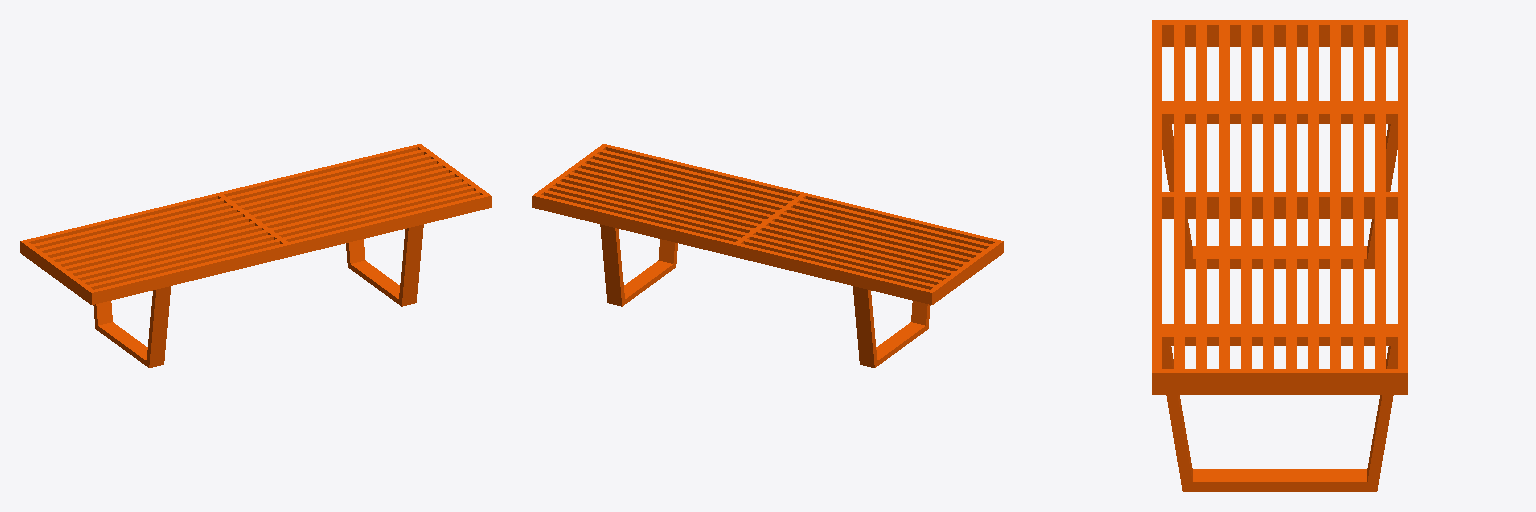
robot.urdf — Bench_17a7a1a4761e9aa1d4bf2d5f775ffe5e:
<?xml version="1.0" ?>
<robot name="Bench_17a7a1a4761e9aa1d4bf2d5f775ffe5e">
   <material name="obj_color">
      <color rgba="1.0 0.423529411765 0.0392156862745 1.0"/>
   </material>
   <link name="top">
      <inertial>
         <origin rpy="0.0006435095610023216 0.004082014267312145 0.004213607836641126" xyz="0.0004424999999999997 0.0007575094550358297 -0.01843548246483377"/>
         <mass value="0.9045251381755006"/>
         <inertia ixx="0.0006435095610023216" ixy="-7.123472640153536e-20" ixz="3.891057601449442e-20" iyy="0.004082014269954639" iyz="-1.864766021860635e-08" izz="0.004213607833998633"/>
      </inertial>
      <visual>
         <origin rpy="0 0 0" xyz="0 0 0"/>
         <geometry>
            <mesh filename="top_watertight_tiny.stl" scale="1 1 1"/>
         </geometry>
         <material name="obj_color"/>
      </visual>
      <collision>
         <origin rpy="0 0 0" xyz="0 0 0"/>
         <geometry>
            <mesh filename="top_watertight_tiny.obj" scale="1 1 1"/>
         </geometry>
      </collision>
   </link>
   <link name="bottom">
      <inertial>
         <origin rpy="1.633333333199431e-08 1.633333333199431e-08 1.633333333362855e-08" xyz="0.3464080000000008 0.3464080000000008 0.3464080000000008"/>
         <mass value="0.0009800000000000017"/>
         <inertia ixx="1.633333333253906e-08" ixy="5.447480642029219e-19" ixz="5.447480642029219e-19" iyy="1.633333333253906e-08" iyz="5.447480642029219e-19" izz="1.633333333253906e-08"/>
      </inertial>
      <visual>
         <origin rpy="0 0 0" xyz="0 0 0"/>
         <geometry>
            <mesh filename="bottom_watertight_tiny.stl" scale="1 1 1"/>
         </geometry>
         <material name="obj_color"/>
      </visual>
   </link>
   <link name="world"/>
   <joint name="world_to_base" type="fixed">
      <origin xyz="0 0 0"/>
      <axis xyz="0 0 0"/>
      <parent link="world"/>
      <child link="bottom"/>
   </joint>
   <joint name="rotation" type="revolute">
      <origin xyz="0 0 0"/>
      <axis xyz="0 0 -1"/>
      <parent link="bottom"/>
      <child link="top"/>
      <dynamics damping="1.0" friction="1.0"/>
      <limit effort="0.1" velocity="0.1" lower="0" upper="0.001"/>
   </joint>
</robot>

--- Render facts (derived) ---
3 views of the same robot in one strip: view 1: azimuth 30°, elevation 25°; view 2: azimuth 150°, elevation 25°; view 3: azimuth 270°, elevation 25° (orthographic).
Robot: Bench_17a7a1a4761e9aa1d4bf2d5f775ffe5e — 3 links, 2 joints (1 revolute, 1 fixed); root link world; default pose: all joints at 0.
Visible links, largest first — view 1: top; view 2: top; view 3: top.
Link boxes in pixels (x1=…): top: x1=20, y1=144, x2=491, y2=367; top: x1=532, y1=144, x2=1003, y2=367; top: x1=1152, y1=20, x2=1407, y2=491.
Size in the robot's own frame: 0.2553 by 0.0785 by 0.0596 metres.
1 mesh visuals loaded from 2 distinct referenced files (1 binary STL); not drawn: 1 (reference not matched to a file when rendering).
